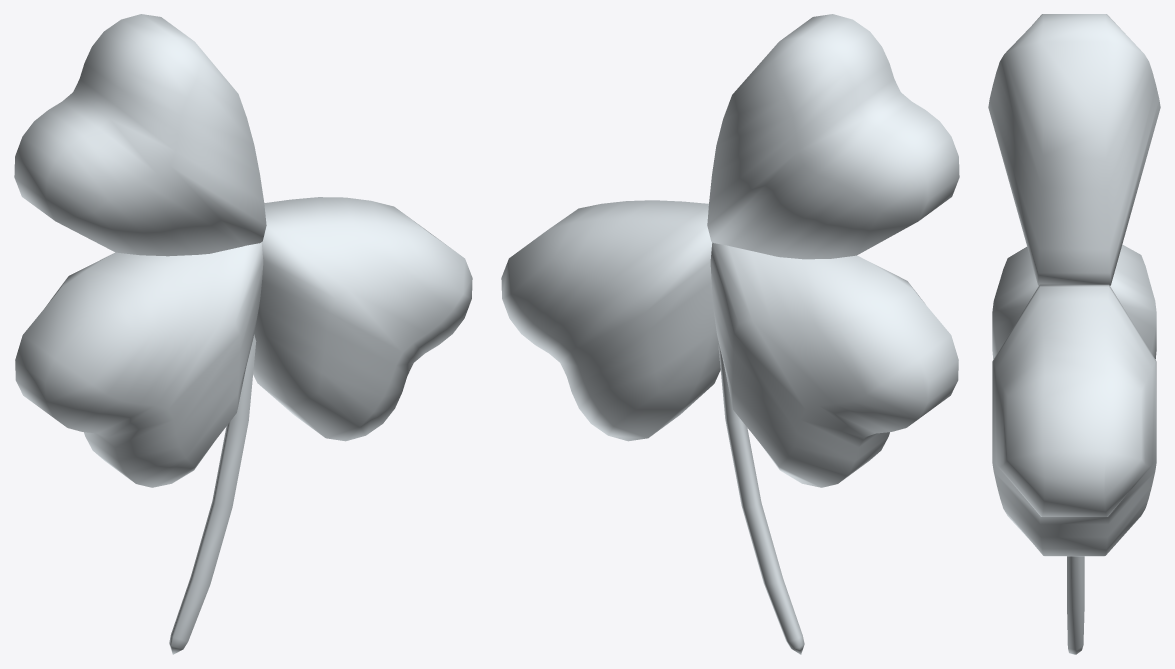
The model's file is Clover2.fbx.
The picture shows the model from 3 angles, left to right: view 1: azimuth 30°, elevation 25°; view 2: azimuth 150°, elevation 25°; view 3: azimuth 270°, elevation 25°; orthographic projection.
Parts seen in each view (by area): view 1: Cube.004; view 2: Cube.004; view 3: Cube.004.
Part boxes in pixels (x1=…): Cube.004: x1=14, y1=14, x2=472, y2=654; Cube.004: x1=501, y1=14, x2=959, y2=654; Cube.004: x1=988, y1=14, x2=1160, y2=654.
Bounding box in the file's own units: 21.91 × 31.02 × 7.76.
